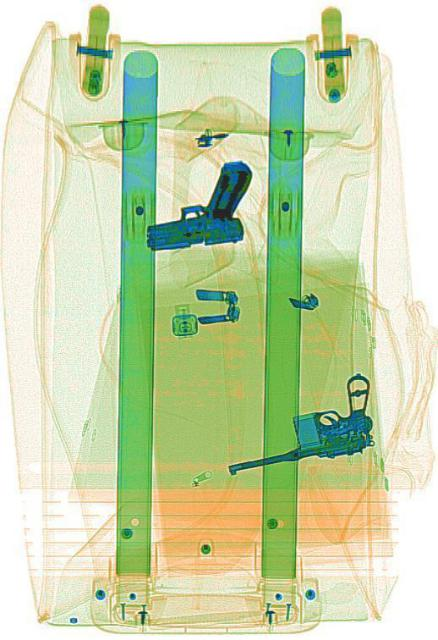Gun: (219, 370, 375, 476), (137, 158, 255, 254)
